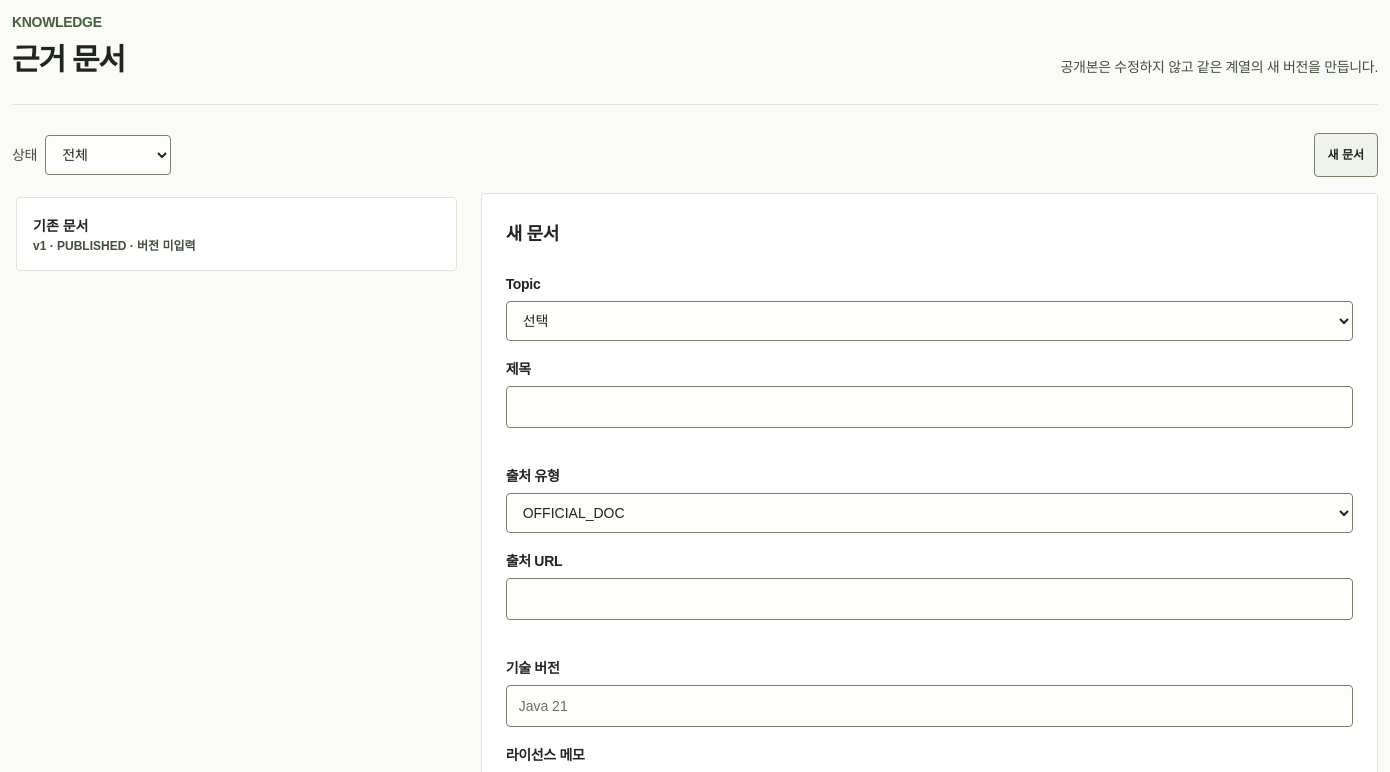
it: 관리자 근거 문서 화면 › 필터 변경 전에 시작한 chunk 응답을 무시하고 선택을 초기화한다
Step 1. Click the button "기존 문서 v1 · PUBLISHED · 버전 미입력" → point(61, 226), box [17,198,456,270]
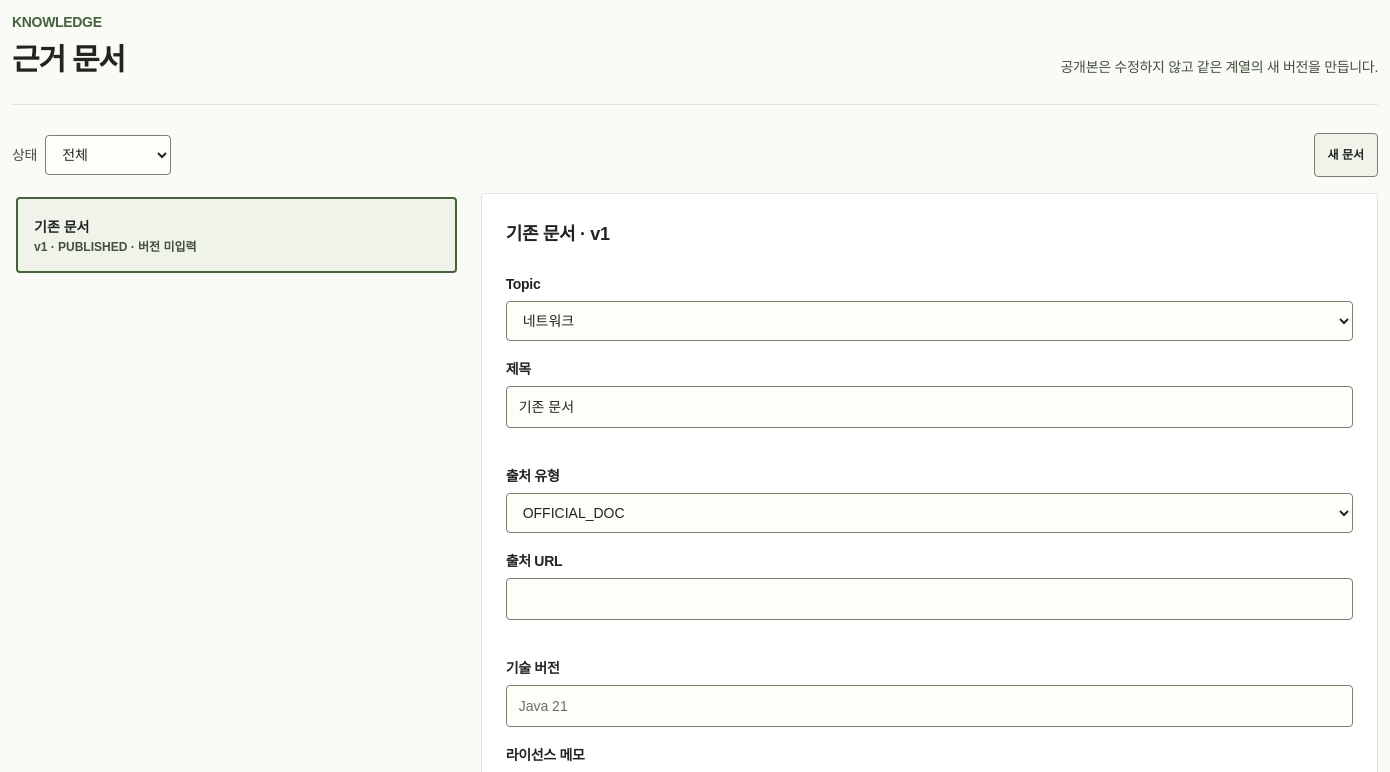
Step 2. Select "DRAFT" in the dropdown labelled "상태" → point(108, 155), box [45,135,171,175]
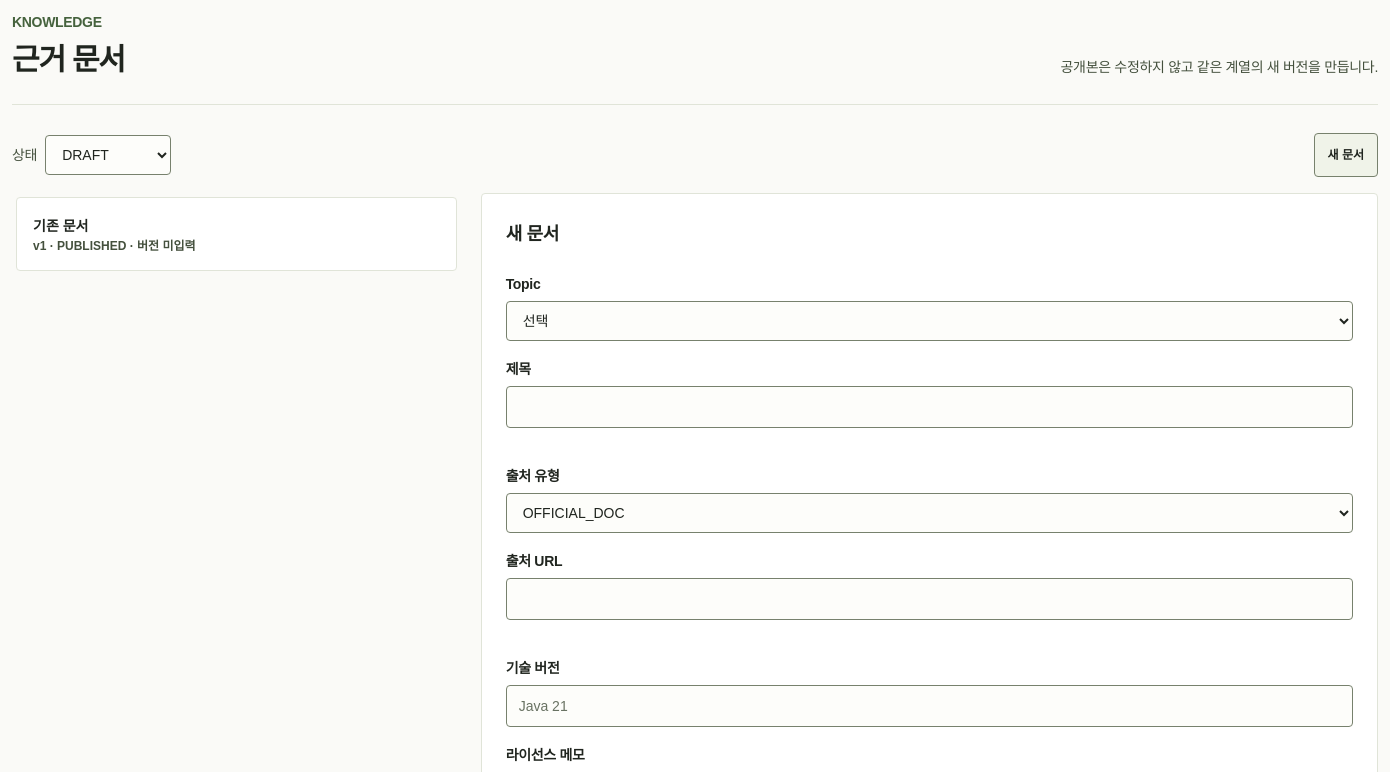
Expected: the heading "새 문서" is shown, [506,224,559,244]
